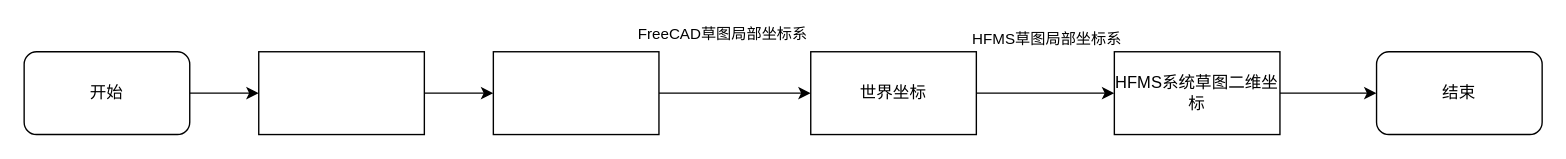
Some shapes in this 1566 by 159 pixel diagram are drawn without their labels. Here are the shapes that lost their labels. From the top down, the centre of each, then its label:
At [340,92]: "读取Document.xml信息生成FreeCAD草图局部坐标系".
At [575,92]: "FreeCAD草图二维坐标".
